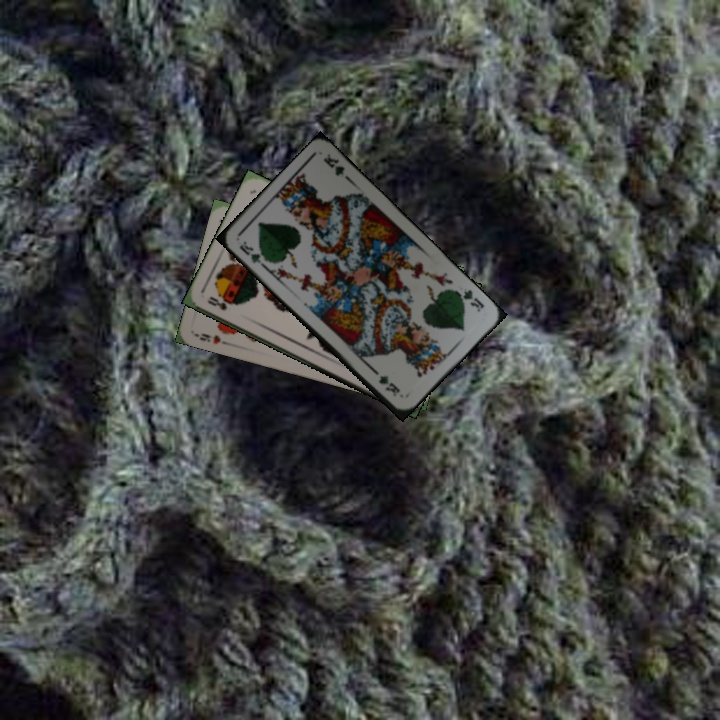GK: (235, 237, 271, 269), (450, 286, 487, 314)
H9: (192, 329, 232, 348)
SO: (203, 292, 235, 313)
